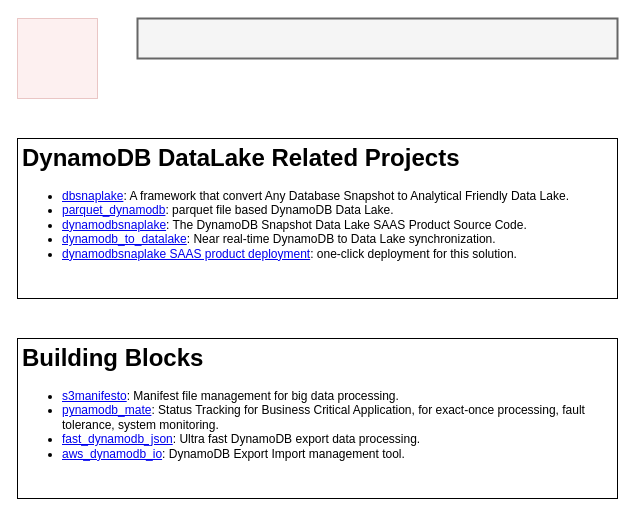
The diagram is 636 pixels wide and 516 high, and some of its shapes have lost their labels. The shapes that lost their labels are listed below. From the top down, each one's centre as x and y in pixels, then its label:
pixel 57 58: 👀 HERE
pixel 377 38: Solutions
